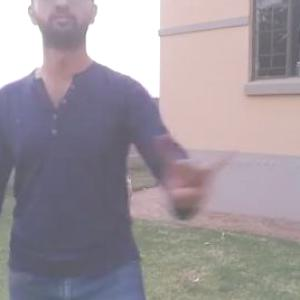takeoff-hand: (168, 134, 244, 220)
